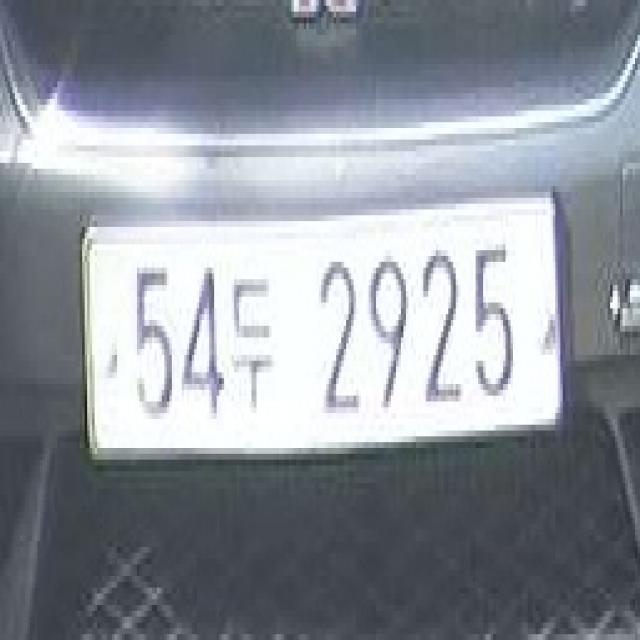2: (319, 221, 366, 436), (418, 215, 464, 431)
4: (182, 232, 224, 424)
5: (473, 216, 523, 402), (127, 250, 179, 419)
9: (371, 221, 418, 436)
du: (226, 262, 276, 413)
license_plate: (75, 186, 570, 495)
